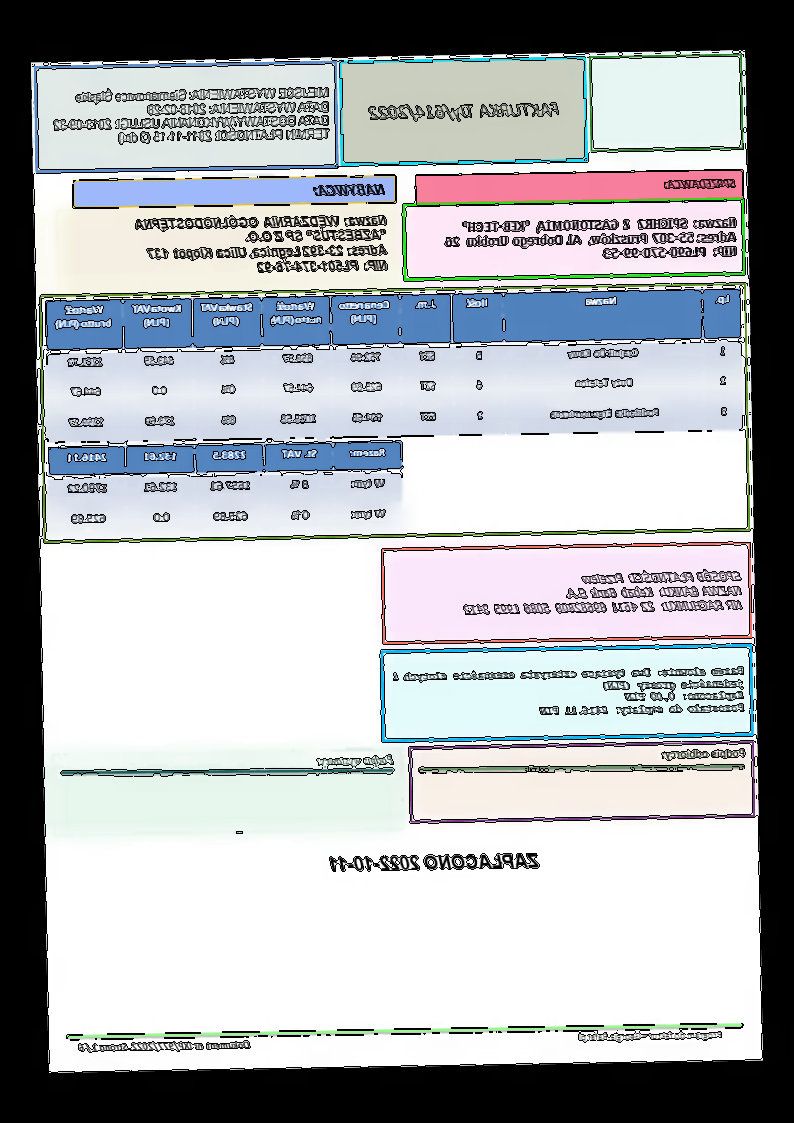Table: (45, 287, 745, 443), (47, 439, 405, 538)
TextBox: (393, 665, 746, 720), (51, 84, 332, 149), (134, 212, 390, 276), (444, 215, 738, 264), (462, 568, 745, 617), (327, 849, 542, 874), (368, 100, 562, 122), (78, 1039, 253, 1054), (577, 1029, 725, 1044), (660, 746, 748, 763), (317, 751, 397, 769), (663, 175, 739, 193), (312, 181, 388, 198)
